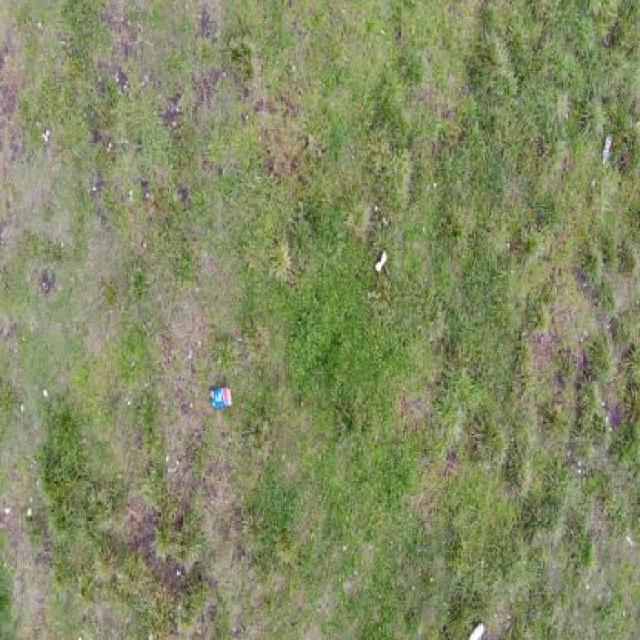Garbage: (211, 384, 231, 407), (603, 132, 614, 168), (469, 618, 486, 640), (374, 251, 387, 272)
